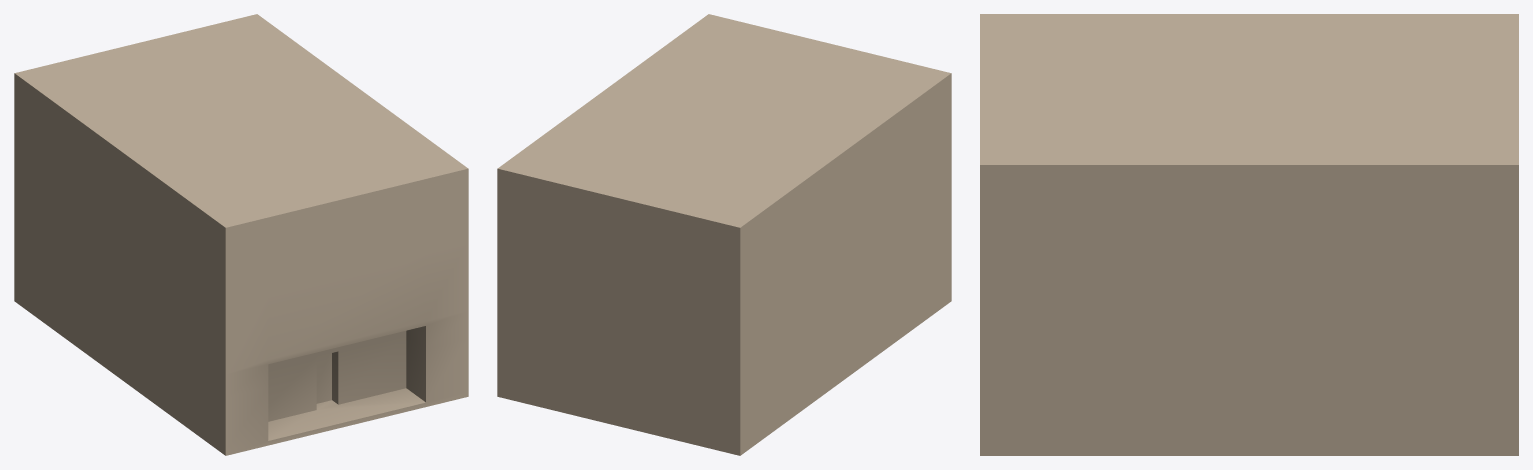
File: massing.glb
The picture shows the model from 3 angles, left to right: view 1: azimuth 30°, elevation 25°; view 2: azimuth 150°, elevation 25°; view 3: azimuth 270°, elevation 25°; orthographic projection. The views are drawn at different scales.
Parts seen in each view (by area): view 1: building/exterior; view 2: building/exterior; view 3: building/exterior.
Part boxes in pixels (bbox=[...]): building/exterior: bbox=[14, 14, 468, 455]; building/exterior: bbox=[497, 14, 951, 455]; building/exterior: bbox=[980, 14, 1518, 455].
Bounding box in the file's own units: 10 × 8.98 × 15.07.
